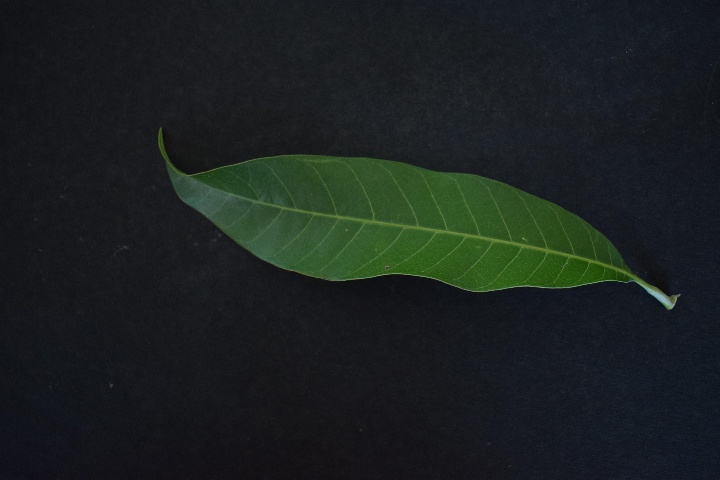healthy: (159, 149, 663, 309)
